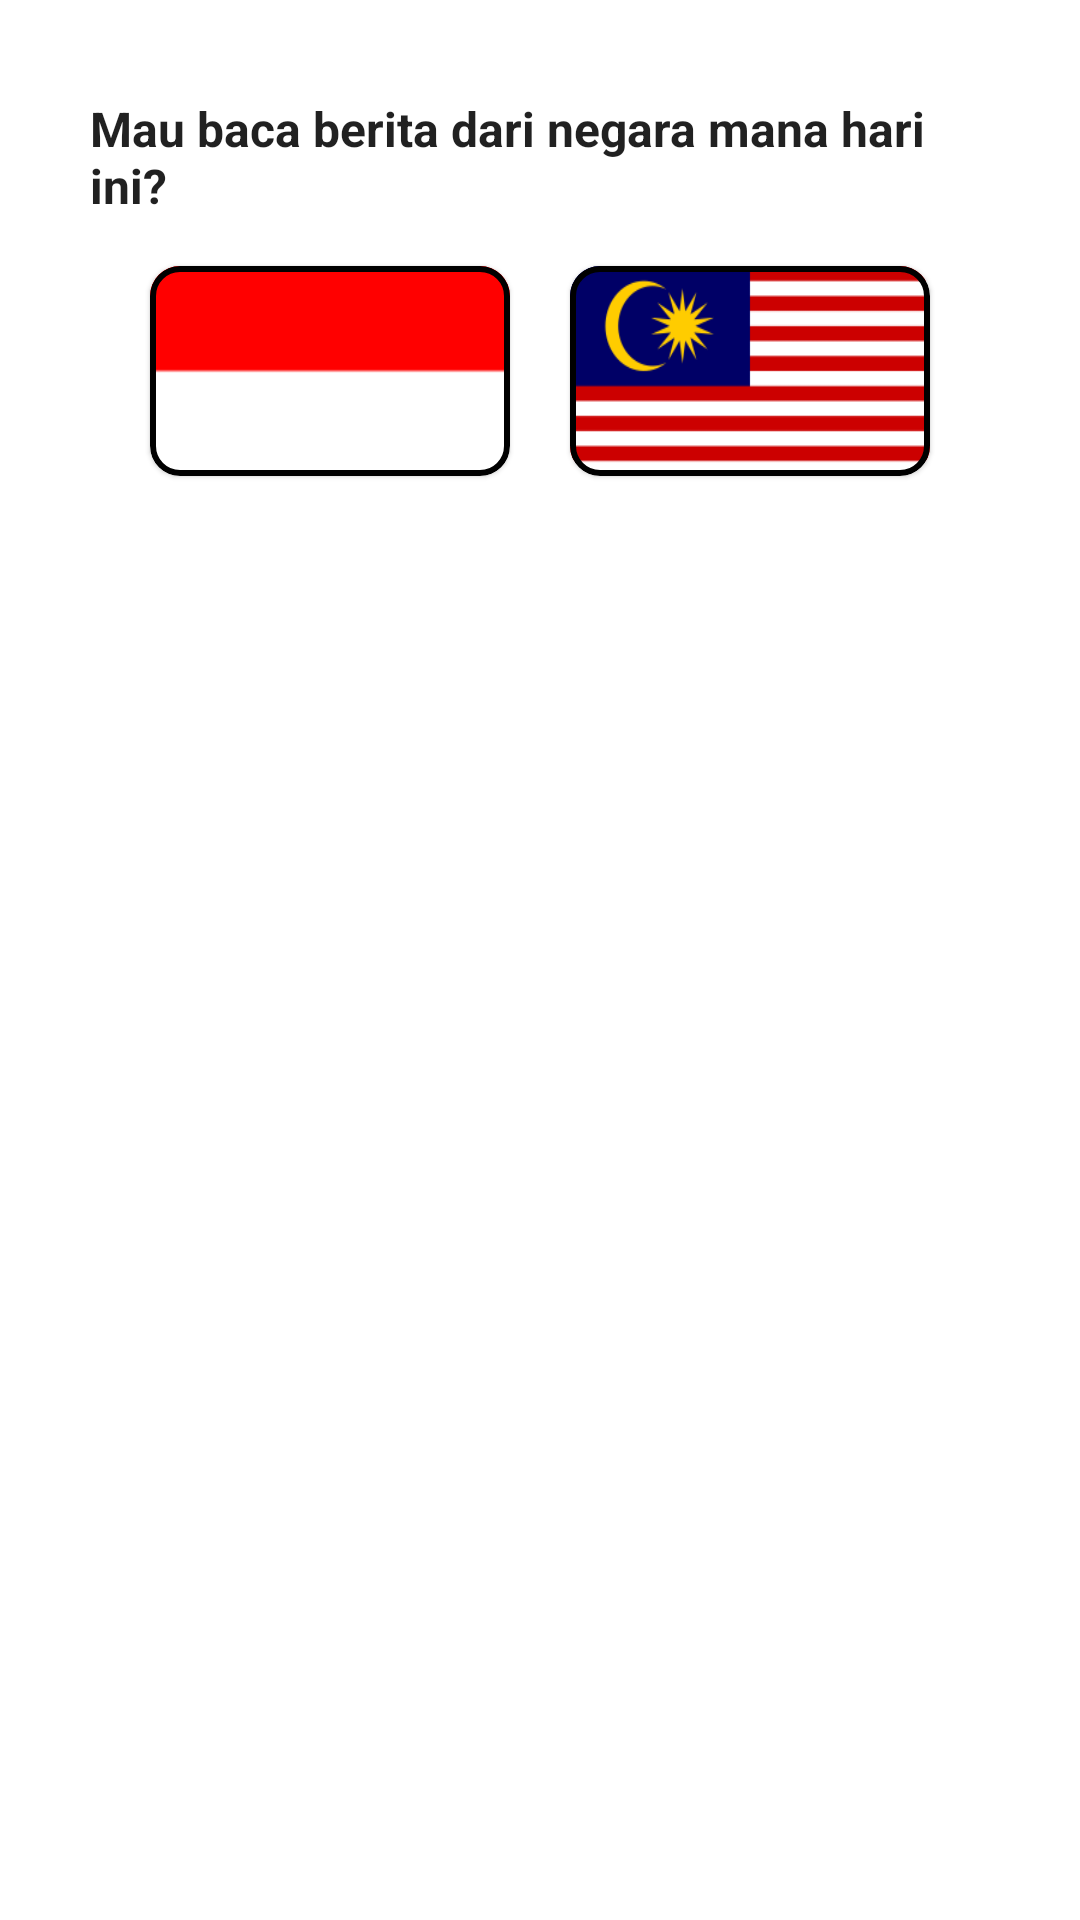

Point at icon controls on the screen. Image size 1080 x 1920, points as point (x, y).
indonesian flag: point (330, 371)
malaysia flag: point (750, 371)
